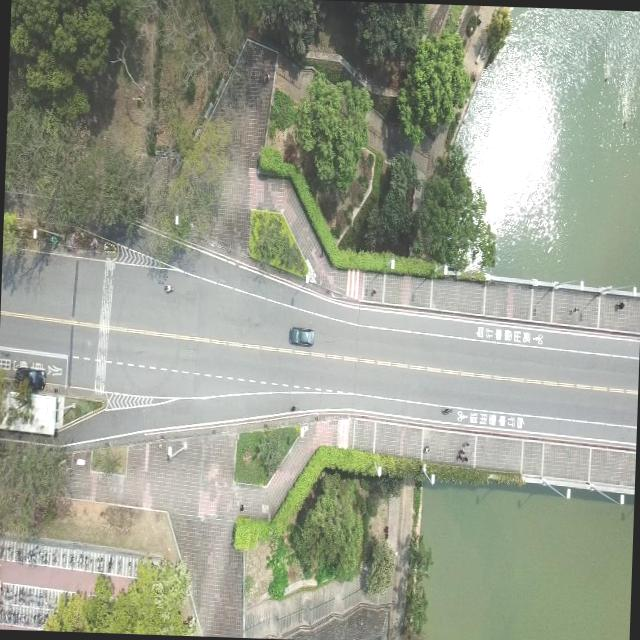bike: (440, 404, 452, 414)
car: (14, 364, 46, 390), (288, 324, 314, 345)
